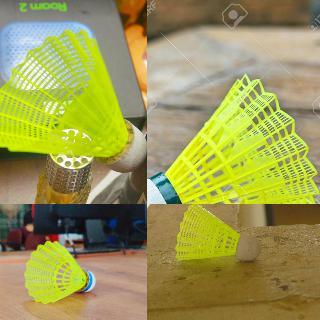shuttlecock: (147, 73, 319, 203), (0, 29, 147, 172), (175, 204, 261, 261), (24, 239, 96, 303)
